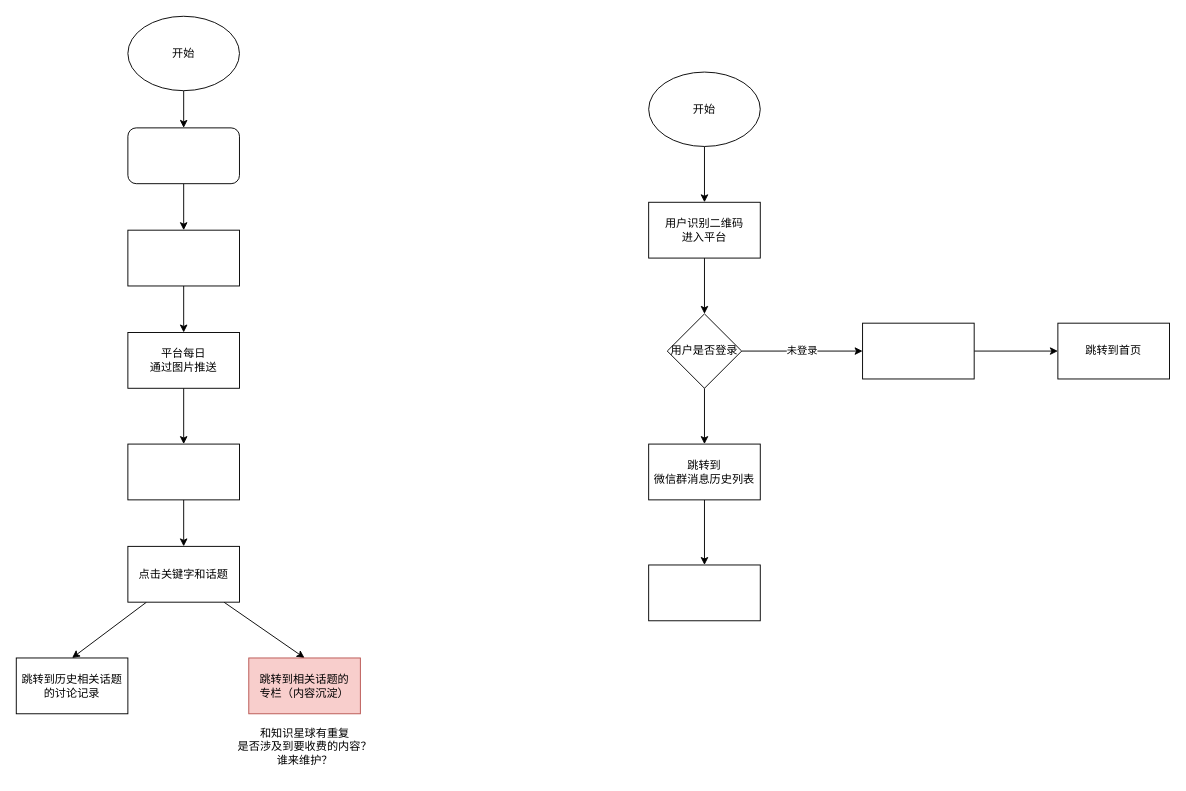
Some shapes in this 1186 by 791 pixel diagram are drawn without their labels. The shapes that lost their labels are listed below. From the top down, each one's centre as x and y in pixels, then its label:
At point (183, 155): "用户在微信群讨论".
At point (183, 257): "微信机器人 自动收集到到平台".
At point (918, 350): "跳转到登录".
At point (183, 471): "用户识别二维码 进入平台 查看每日概要".
At point (704, 592): "可以再跳转到 产品详情页".
